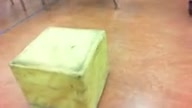cube: (8, 26, 110, 108)
